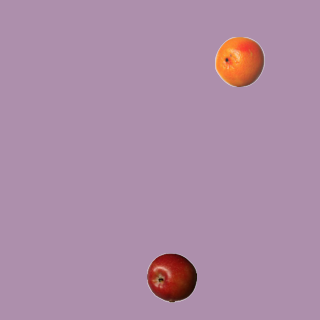Apple Braeburn: (146, 252, 196, 302)
Grapefruit Pink: (214, 36, 264, 86)
